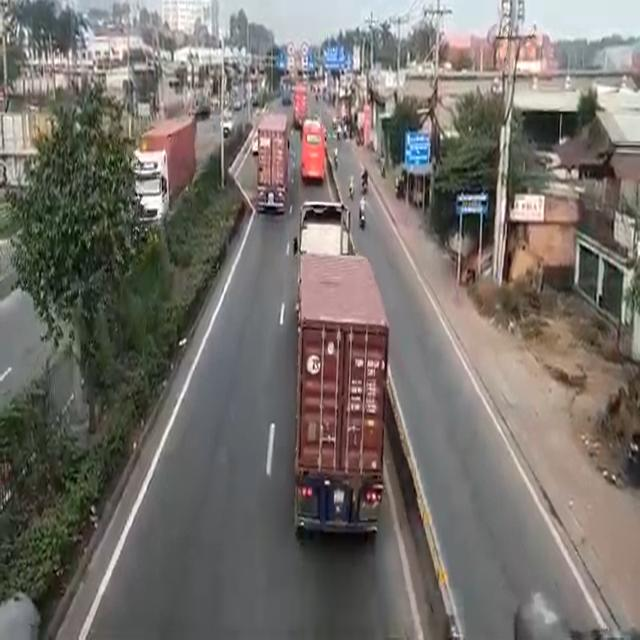bus: (300, 125, 326, 183)
truck: (298, 196, 382, 530), (137, 113, 194, 219), (260, 113, 287, 222)
